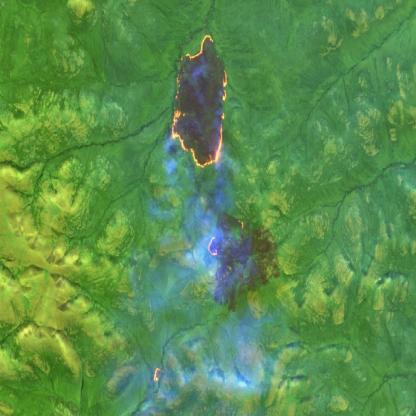fire: (169, 30, 229, 172)
